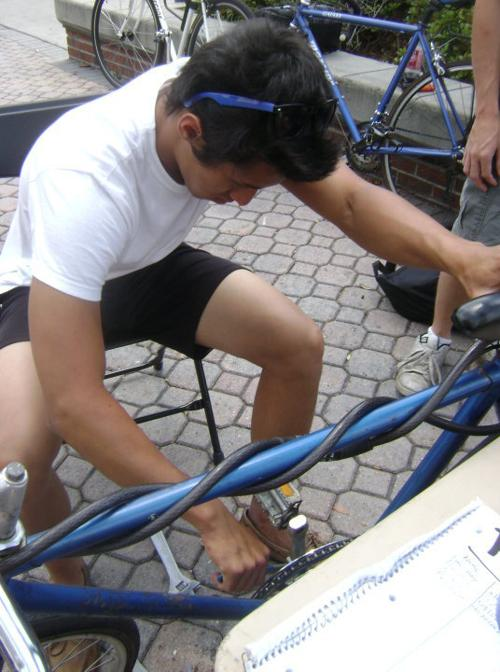person: (1, 21, 500, 599)
